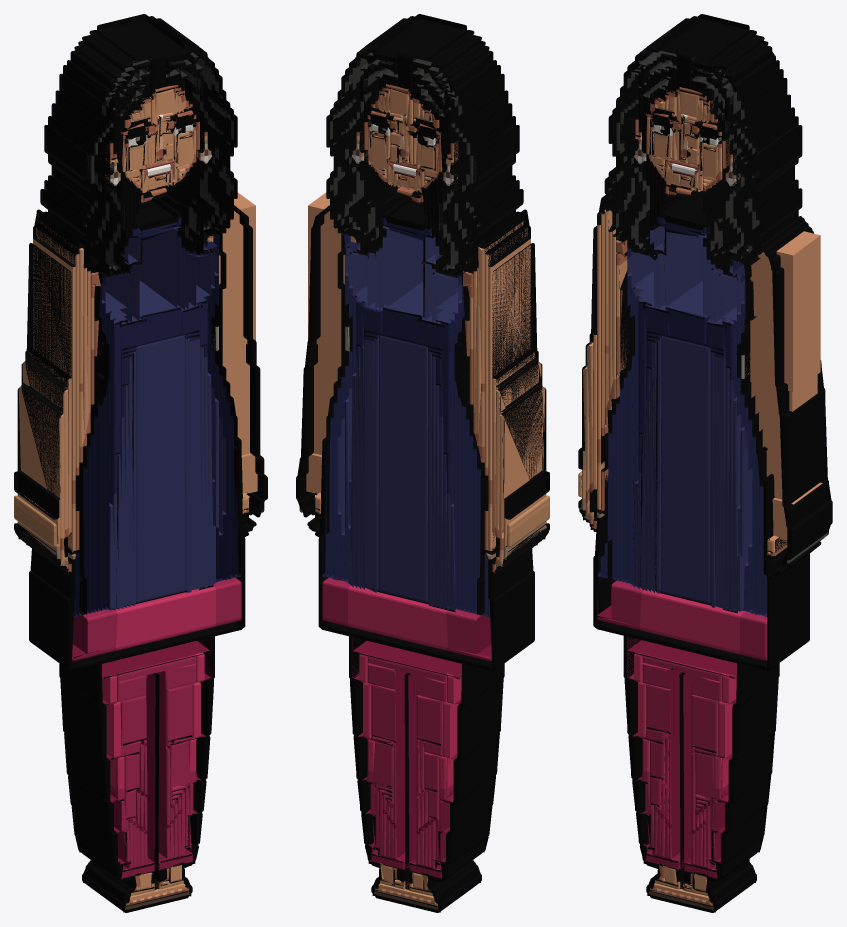
Rendered from greeter_voxel.glb.
The picture shows the model from 3 angles, left to right: view 1: azimuth 30°, elevation 25°; view 2: azimuth 150°, elevation 25°; view 3: azimuth 330°, elevation 25°; orthographic projection.
Parts seen in each view (by area): view 1: PixelBody, Arm_R_Upper, Arm_R_Lower, Hand_R; view 2: PixelBody, Arm_R_Upper, Arm_R_Lower, Hand_R; view 3: PixelBody, Arm_R_Upper, Arm_R_Lower, Hand_R.
Part boxes in pixels (x1,y1,x2,y2): PixelBody: (14,14,267,912); Arm_R_Upper: (206,192,255,349); Arm_R_Lower: (222,344,250,455); Hand_R: (241,453,257,493); PixelBody: (296,14,549,912); Arm_R_Upper: (308,192,356,349); Arm_R_Lower: (313,344,341,455); Hand_R: (306,453,321,493); PixelBody: (578,14,832,912); Arm_R_Upper: (746,231,820,391); Arm_R_Lower: (751,374,817,499); Hand_R: (772,482,822,540).
Bounding box in the file's own units: 1.9 × 7.22 × 0.6419.
